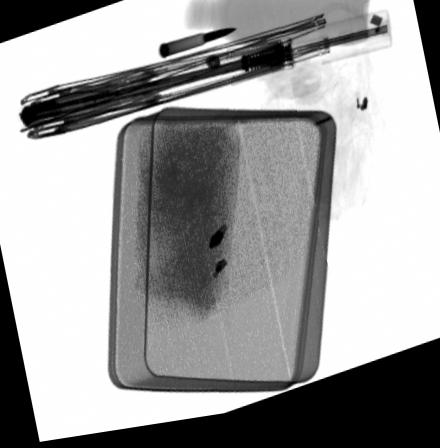Bullet: (158, 35, 239, 63)
